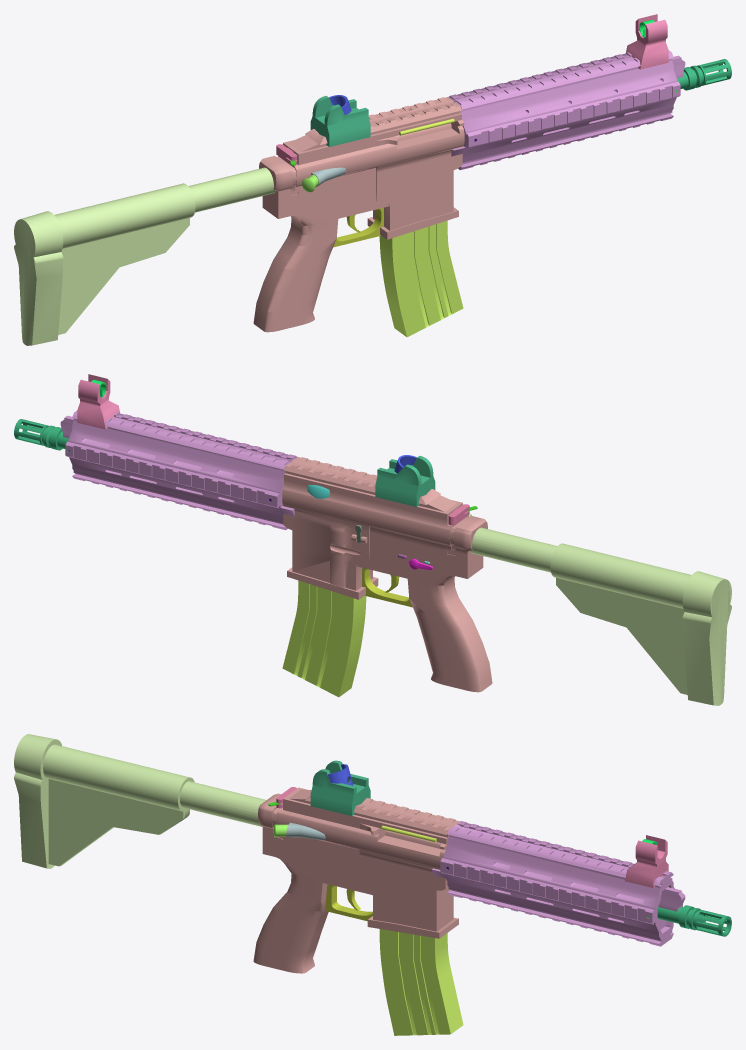
The picture shows the model from 3 angles, top to bottom: view 1: azimuth 30°, elevation 25°; view 2: azimuth 150°, elevation 25°; view 3: azimuth 330°, elevation 25°; orthographic projection.
Parts seen in each view (by area): view 1: split_parent_0, Object_8, Object_4.228, Object_16.042, Object_14.008, Object_14.064, Object_4.698, Object_4.814; view 2: split_parent_0, Object_8, Object_4.228, Object_16.042, Object_14.008, Object_14.064, Object_4.698, Object_4.814; view 3: split_parent_0, Object_8, Object_4.228, Object_16.042, Object_14.008, Object_14.064, Object_4.698, Object_4.814.
Boxes of the visible parts, left/top/right/bottom form: split_parent_0: left=253, top=97, right=464, bottom=332; Object_8: left=14, top=167, right=275, bottom=345; Object_4.228: left=448, top=50, right=685, bottom=170; Object_16.042: left=379, top=220, right=463, bottom=337; Object_14.008: left=310, top=95, right=370, bottom=146; Object_14.064: left=625, top=14, right=668, bottom=69; Object_4.698: left=677, top=59, right=731, bottom=90; Object_4.814: left=333, top=207, right=383, bottom=247; split_parent_0: left=282, top=457, right=492, bottom=692; Object_8: left=470, top=527, right=731, bottom=705; Object_4.228: left=60, top=410, right=297, bottom=530; Object_16.042: left=282, top=580, right=366, bottom=697; Object_14.008: left=375, top=455, right=435, bottom=506; Object_14.064: left=77, top=374, right=120, bottom=429; Object_4.698: left=14, top=419, right=68, bottom=450; Object_4.814: left=362, top=567, right=412, bottom=607; split_parent_0: left=253, top=787, right=459, bottom=973; Object_8: left=14, top=734, right=266, bottom=868; Object_4.228: left=431, top=821, right=685, bottom=946; Object_16.042: left=379, top=929, right=463, bottom=1035; Object_14.008: left=310, top=760, right=370, bottom=815; Object_14.064: left=625, top=835, right=668, bottom=887; Object_4.698: left=657, top=905, right=731, bottom=936; Object_4.814: left=324, top=884, right=372, bottom=921.
Size of the model in its own units: 1 by 0.3435 by 0.0833.
